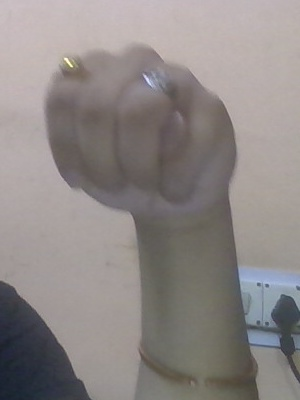M: (38, 35, 282, 275)
